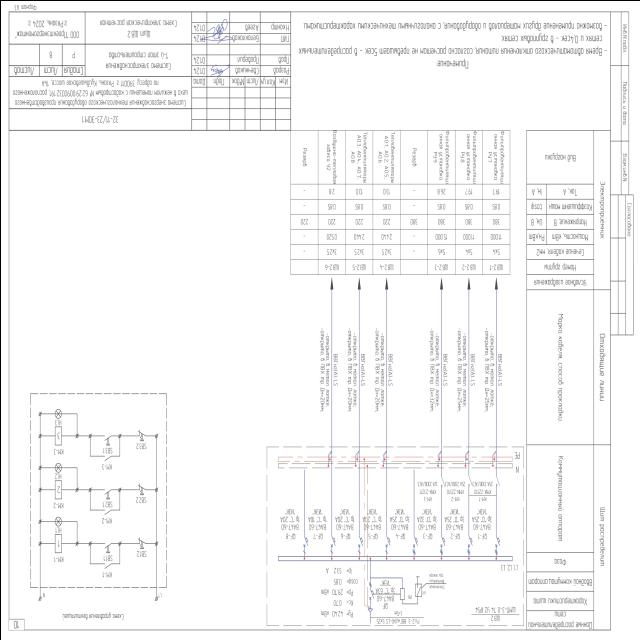-: (374, 578, 395, 602), (444, 506, 464, 530), (471, 506, 491, 530), (388, 506, 408, 530), (416, 506, 436, 530), (334, 506, 354, 530), (306, 506, 326, 530), (362, 506, 382, 530), (278, 507, 298, 529), (470, 478, 493, 494), (443, 478, 466, 493), (415, 478, 438, 493), (474, 604, 516, 612), (406, 591, 412, 600)
ITU: (398, 586, 404, 600)
KM: (468, 474, 472, 486), (440, 476, 444, 488), (495, 474, 499, 486)
QF: (367, 580, 373, 600), (438, 534, 444, 548), (411, 534, 417, 548), (302, 534, 308, 548), (494, 534, 500, 548), (384, 534, 390, 547), (329, 534, 335, 547), (356, 534, 362, 546), (467, 534, 472, 548)
